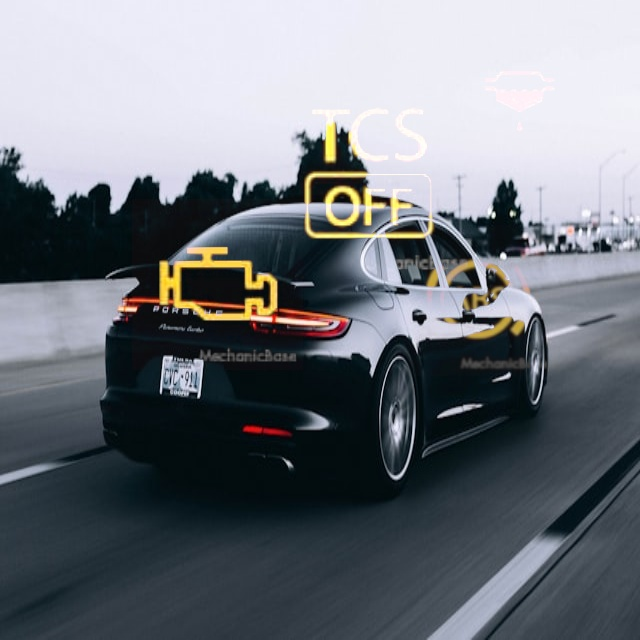symbol: (267, 71, 476, 280), (132, 199, 303, 370), (402, 225, 553, 376), (451, 33, 590, 172)
